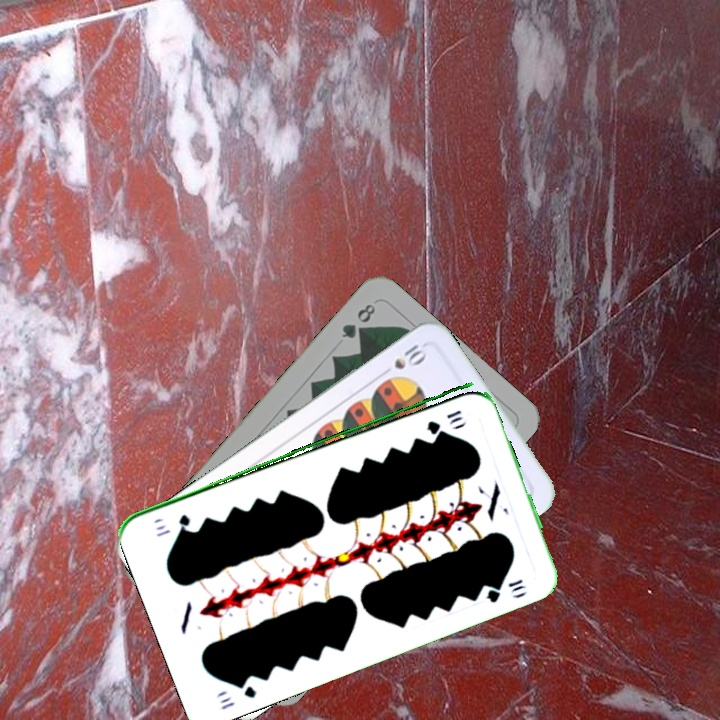G10: (216, 675, 259, 713), (423, 406, 465, 434)
G8: (337, 299, 379, 342)
S10: (376, 340, 430, 379)
